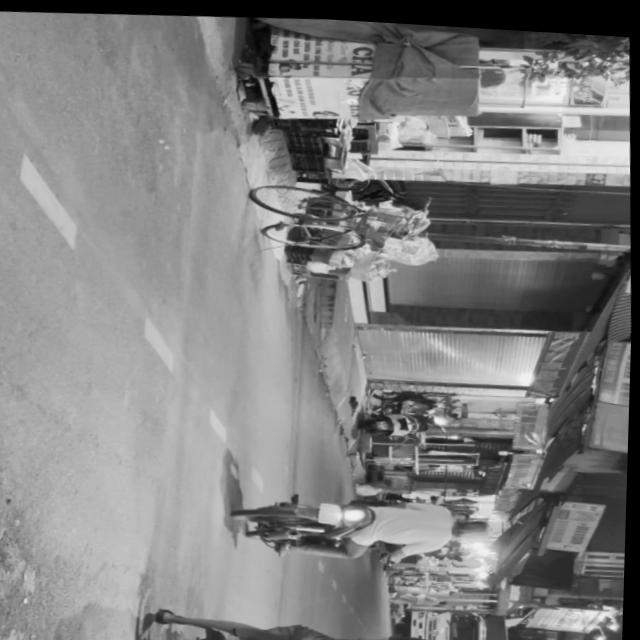licenseplate: (236, 479, 502, 565), (145, 592, 511, 640)
motorcyclist: (450, 508, 498, 536)
nohelmet: (321, 497, 345, 520), (252, 638, 283, 640)
